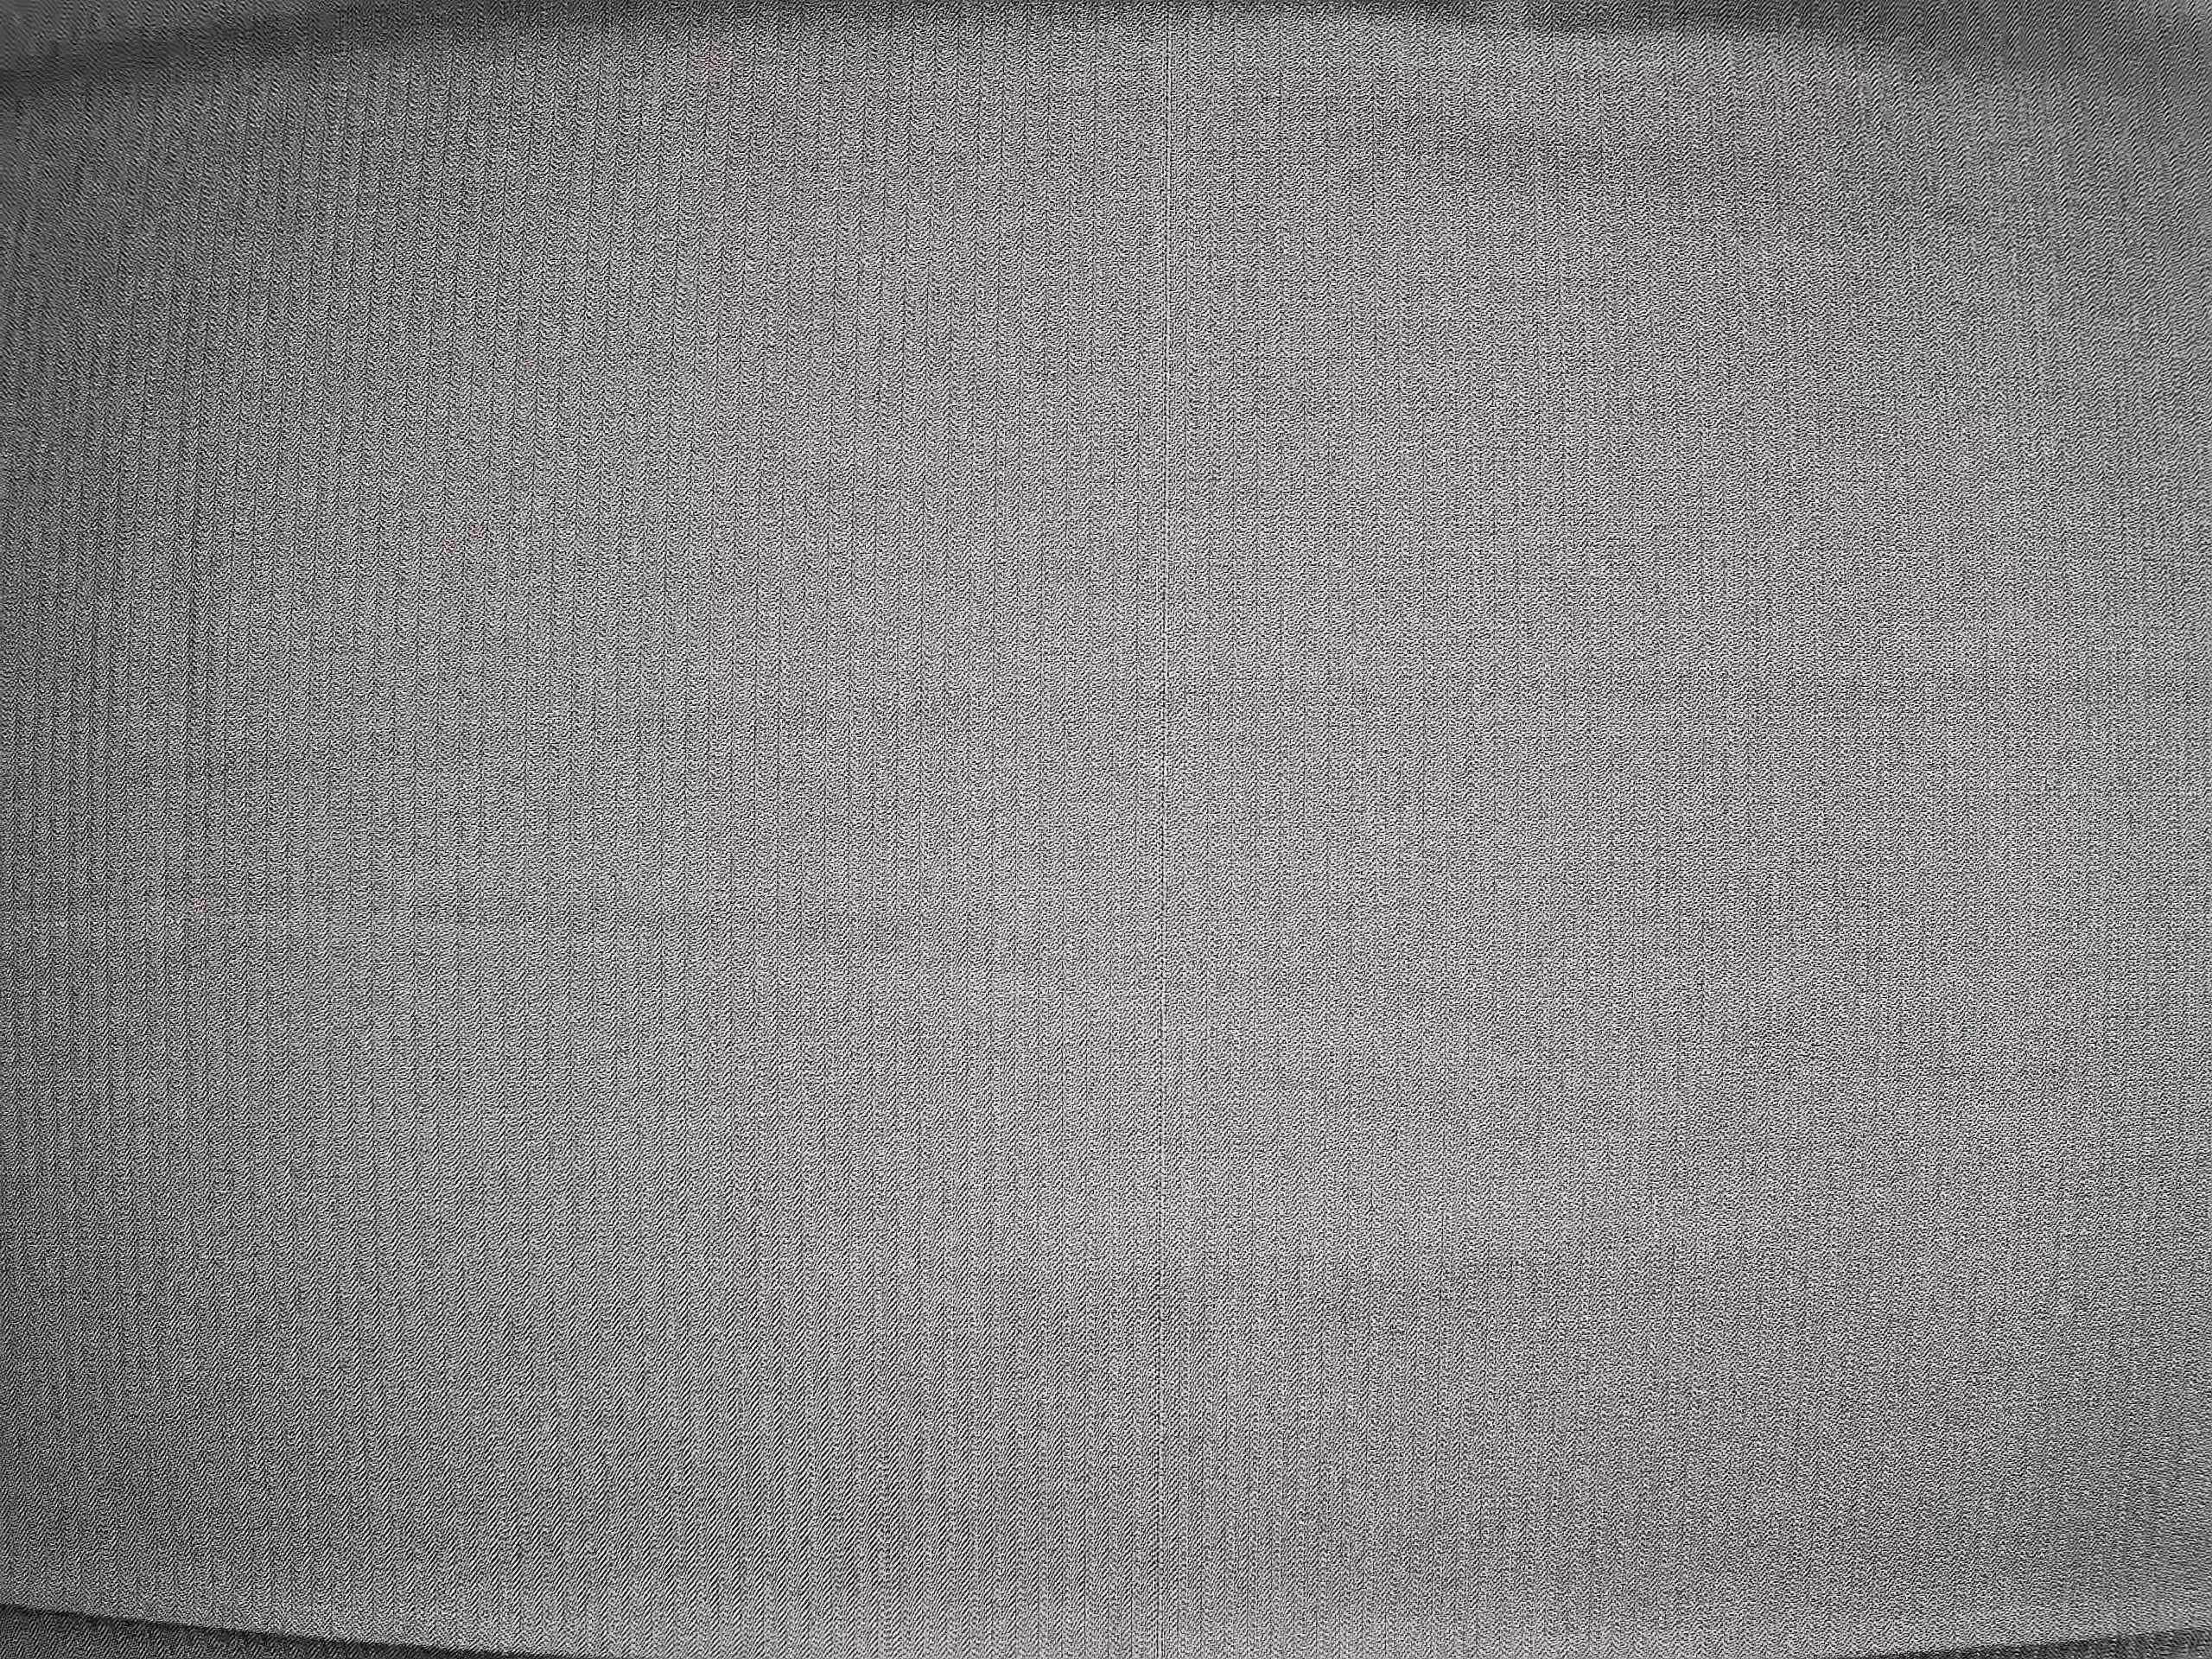lacking-warp: (1150, 9, 1186, 1626)
